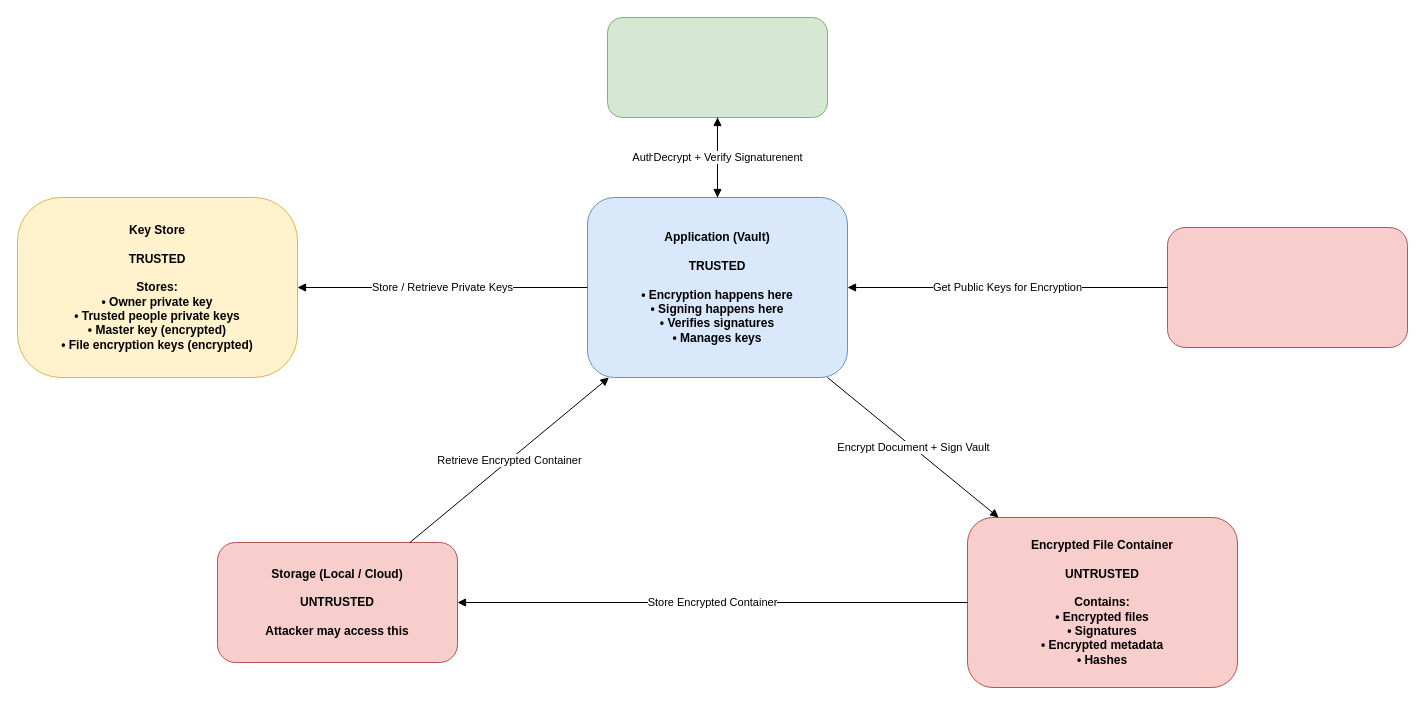
The diagram is 1425 pixels wide and 705 high, and some of its shapes have lost their labels. Here are the shapes that lost their labels. From the top down, the box of each, then its label:
(606, 16, 828, 118): User (Owner / Trusted Person) TRUSTED
(1166, 226, 1408, 348): Public Keys / Recipients UNTRUSTED INPUT Used for hybrid encryption
